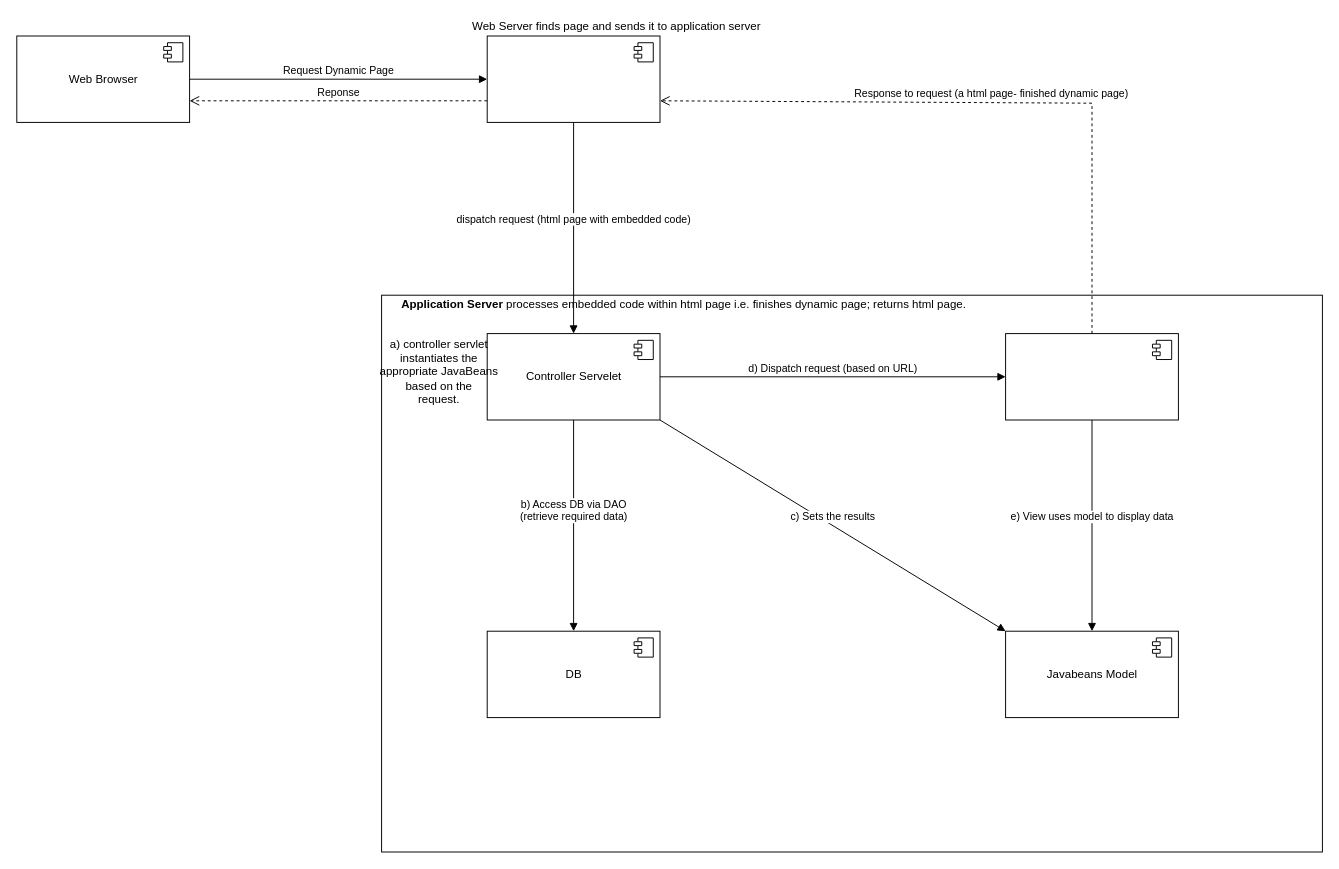
Some shapes in this 1339 by 869 pixel diagram are drawn without their labels. The shapes that lost their labels are listed below. From the top down, each one's centre as x and y in pixels, then its label:
the point at 573,78: Web Server
the point at 1091,376: View JSP
